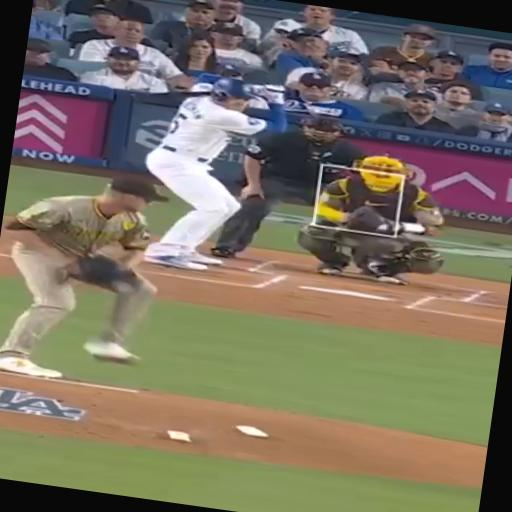bat: (129, 89, 275, 98)
